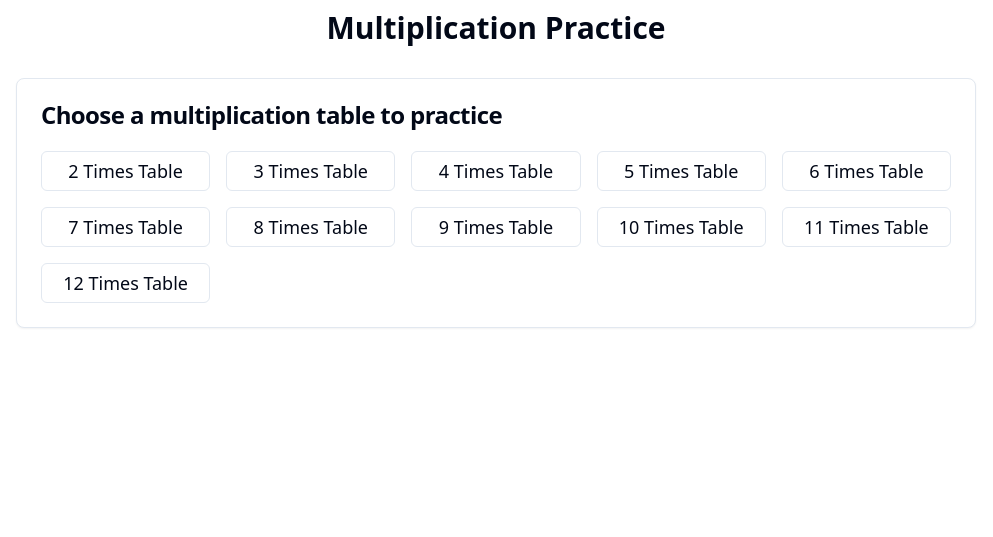
Test: MultiplicationGame › Game Flow › starts game when a multiplication table is selected
What coordinates should you click on to do the following:
click the button "2 Times Table"
I would click on:
 (126, 171)
Its box is [41,151,210,191].
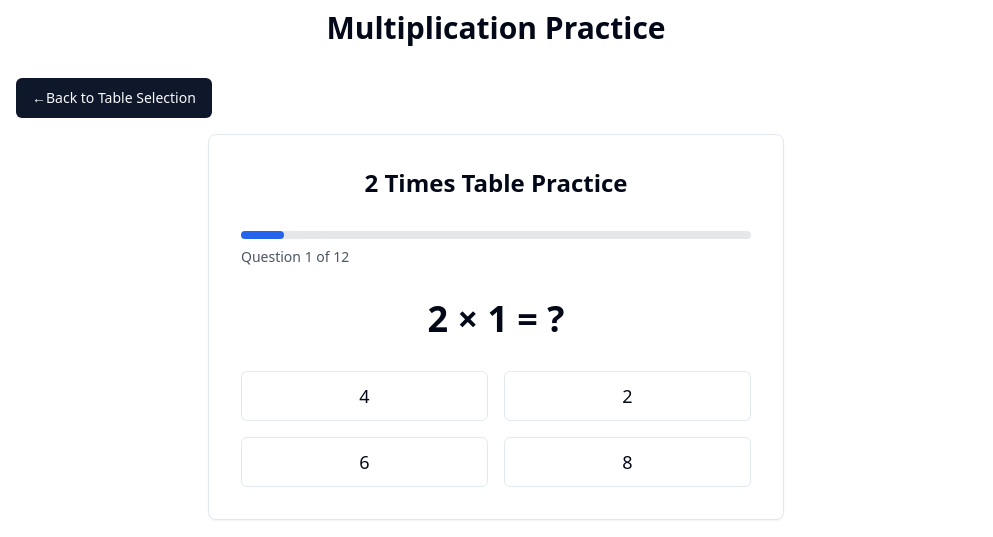
Check: the heading "2 Times Table Practice" is shown, box [364,167,628,199]
Check: the text "Question 1 of 12" is shown, box [241,247,349,267]
Check: the button "← Back to Table Selection" is shown, box [16,78,212,118]
